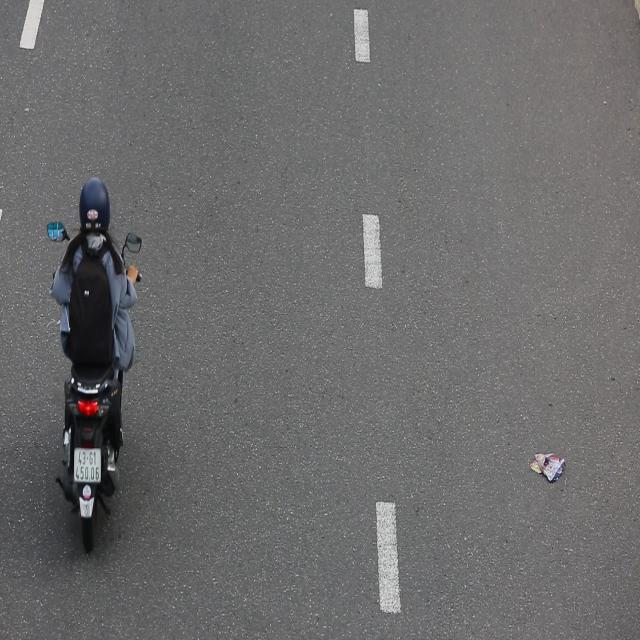motorbike: (44, 175, 144, 565)
